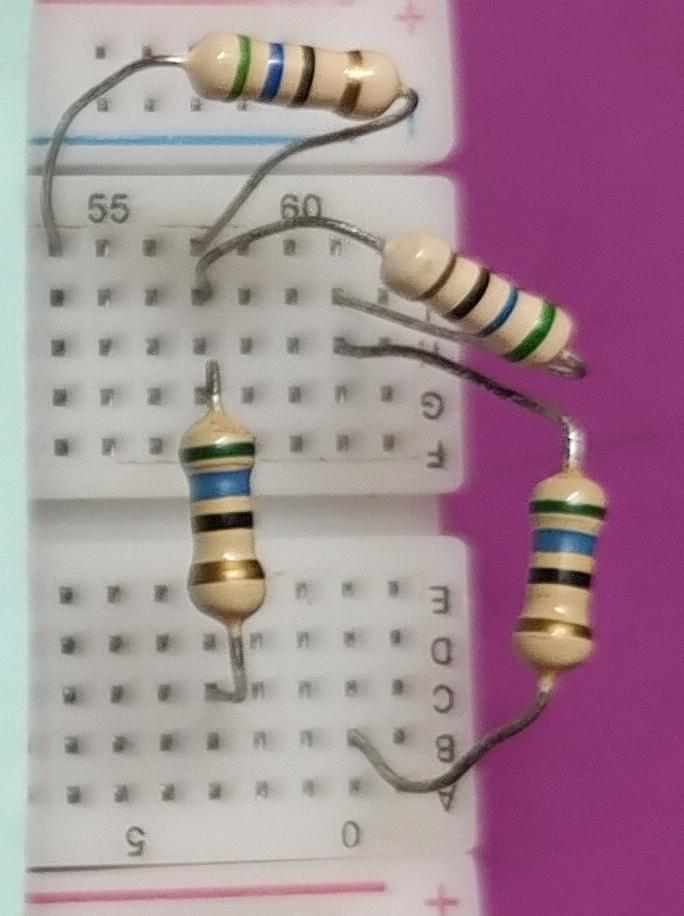resistor: (365, 219, 591, 375), (163, 401, 301, 640), (181, 13, 415, 113), (511, 459, 614, 680)
